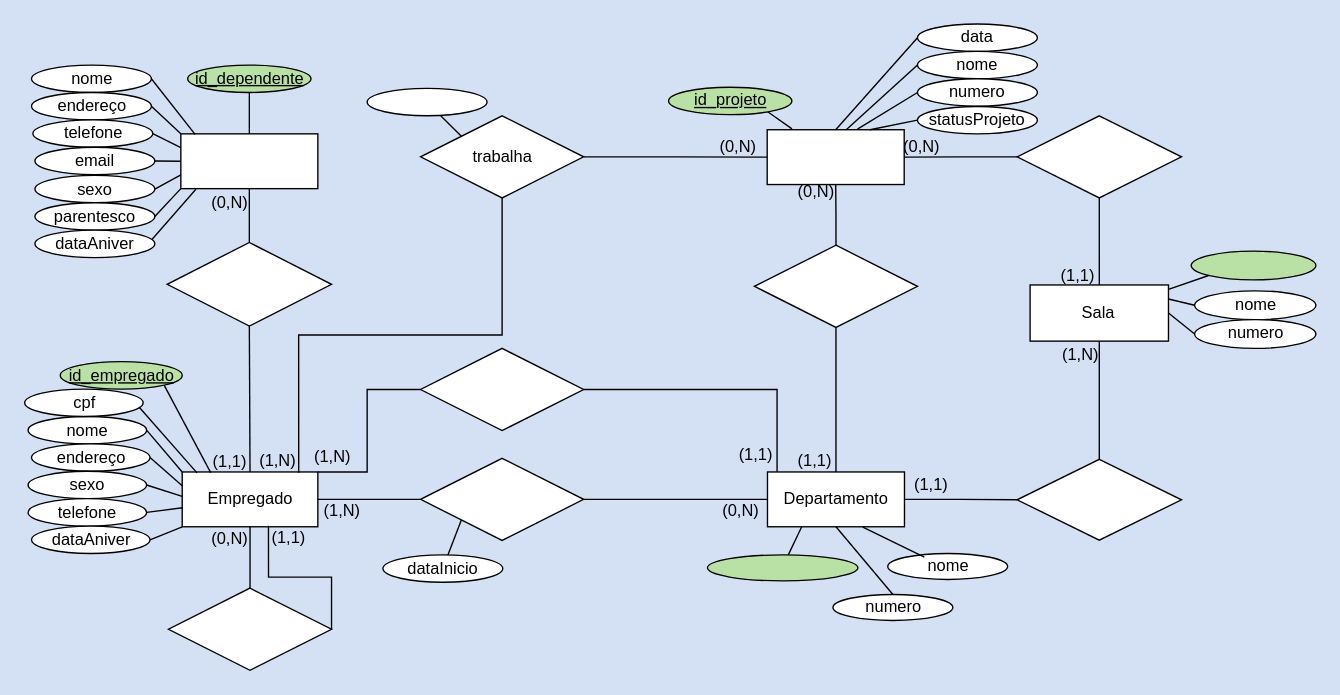
Some shapes in this 1340 by 695 pixel diagram are drawn without their labels. Each missing label, with the centre of its shape:
controla: point 835,285
Dependente: point 248,160
está localizado: point 1098,499
gerencia: point 501,498
id_departamento: point 782,567
id_sala: point 1253,265
nroHoras: point 426,101
possui: point 249,283
Projeto: point 835,156
é alocao: point 501,389
é executado: point 1098,156
é gerente de: point 249,628
